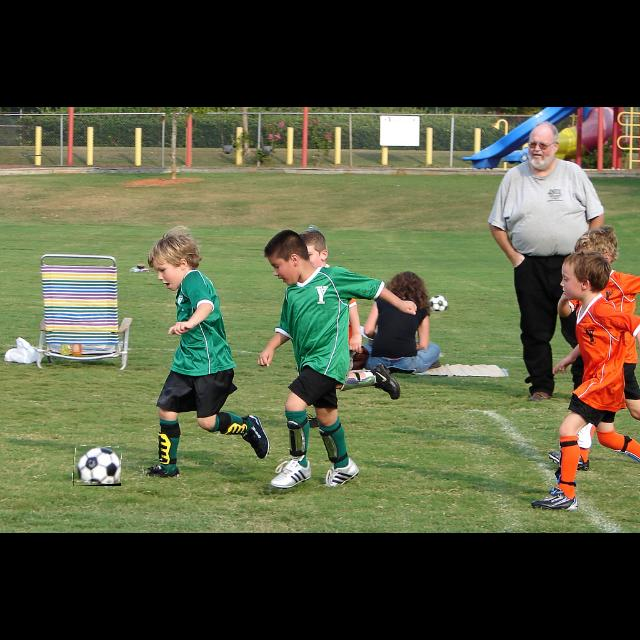Football: (73, 446, 121, 486), (429, 292, 447, 312)
